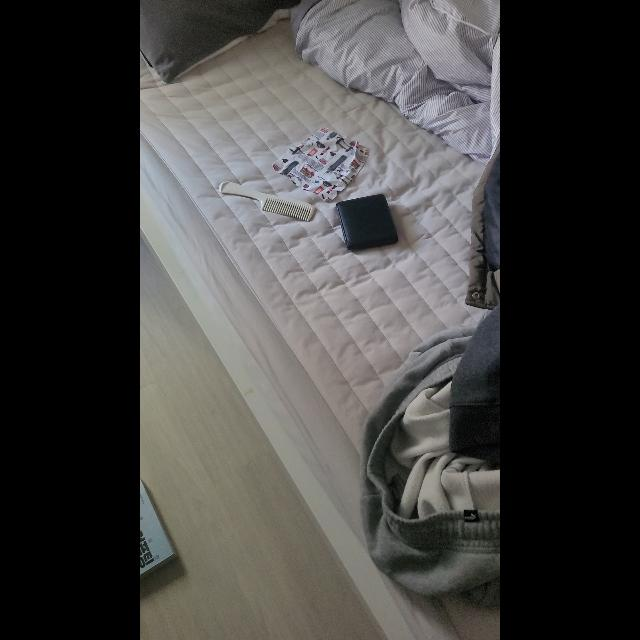COMB: (219, 181, 315, 221)
Glasses cleaning cloth: (273, 126, 369, 202)
WALLET: (336, 193, 398, 251)
